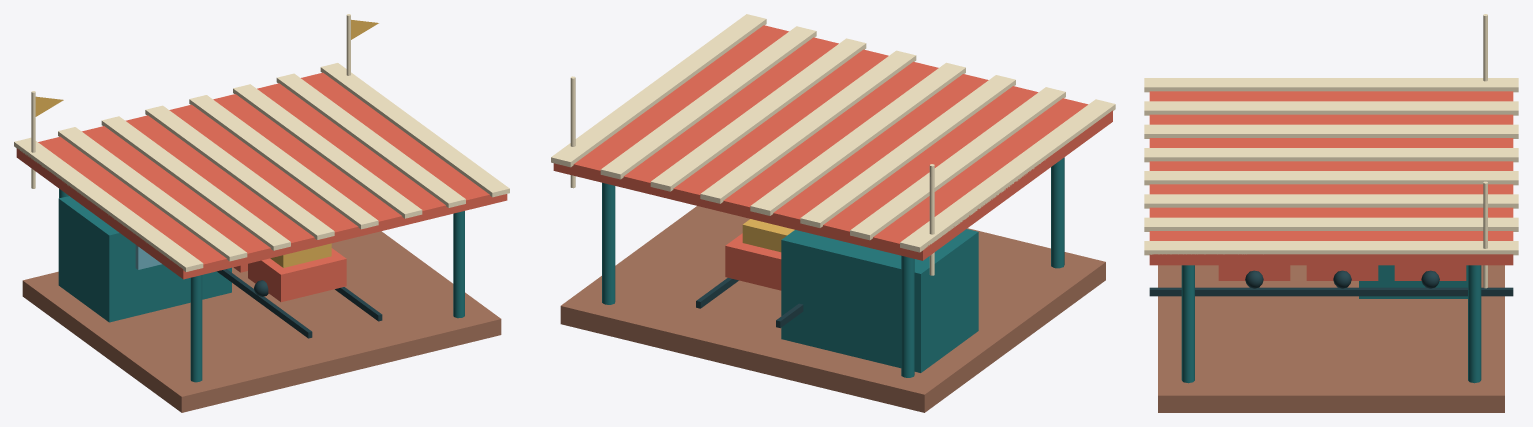
The model's file is ride_coaster.glb.
The picture shows the model from 3 angles, left to right: view 1: azimuth 30°, elevation 25°; view 2: azimuth 150°, elevation 25°; view 3: azimuth 270°, elevation 25°; orthographic projection. The views are drawn at different scales.
Visible parts, largest first — view 1: ride_coaster; view 2: ride_coaster; view 3: ride_coaster.
Part boxes in pixels (bbox=[...]): ride_coaster: bbox=[14, 14, 509, 412]; ride_coaster: bbox=[551, 14, 1115, 412]; ride_coaster: bbox=[1144, 14, 1518, 412].
Size of the model in its own units: 8 by 4.59 by 6.8.
